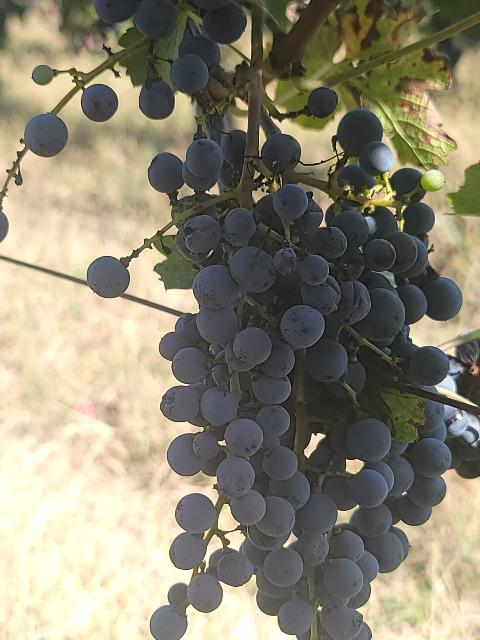grapes: (149, 109, 479, 640)
